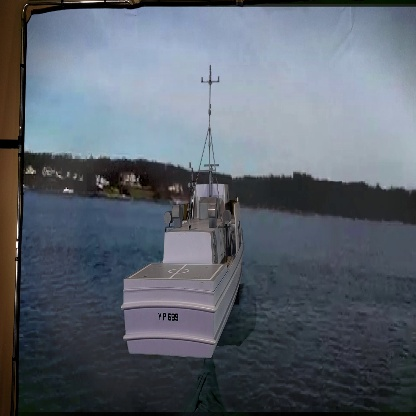YP689: (124, 61, 245, 361)
